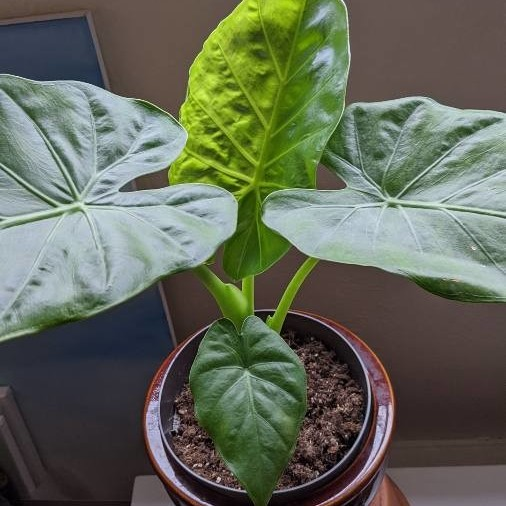obstacle: (0, 11, 478, 503)
